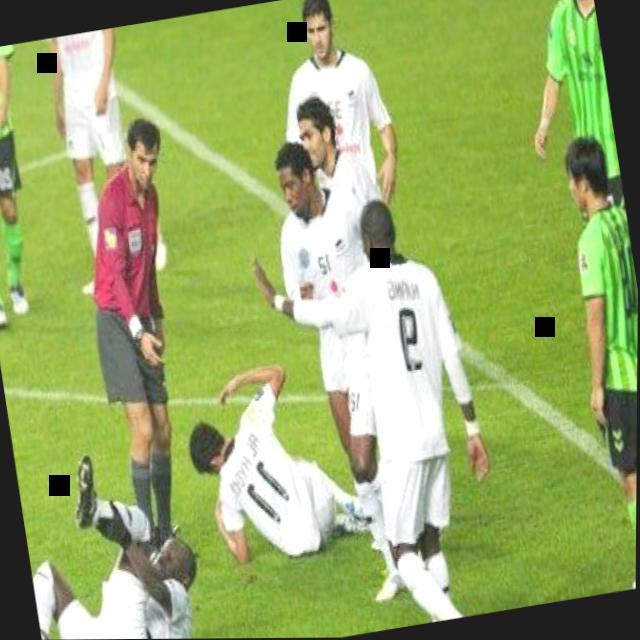Fall-Detected: (171, 326, 389, 585)
